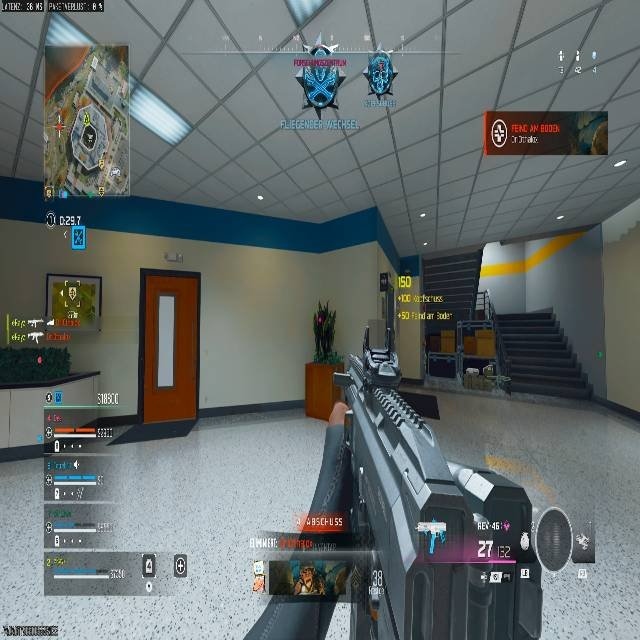player: (362, 52, 397, 97), (313, 304, 335, 361)
